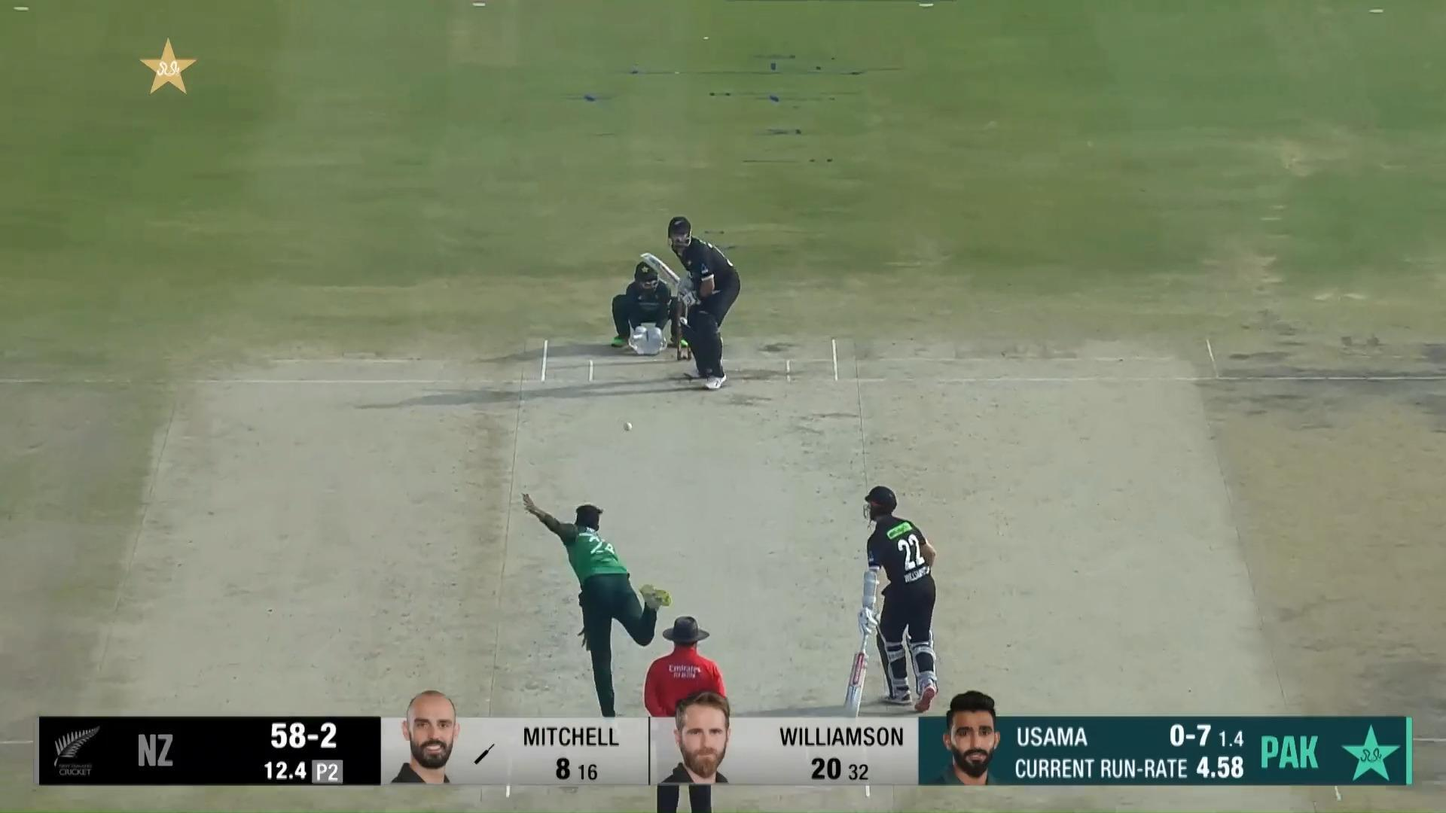BM 1: (639, 216, 741, 392)
BO: (519, 489, 674, 744)
